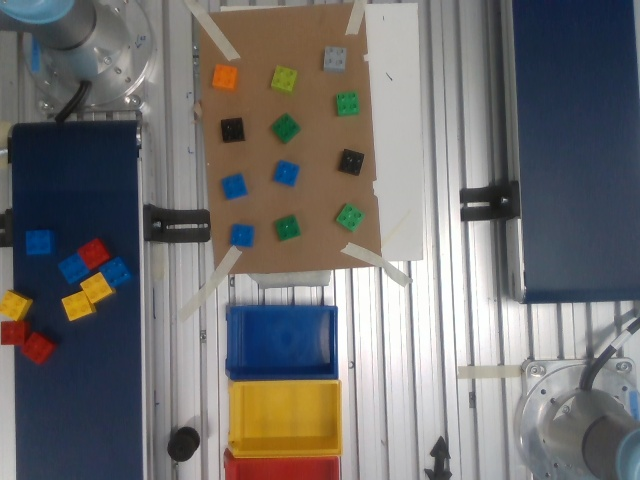duplo_4_blue: (219, 167, 251, 202), (270, 158, 304, 190), (226, 219, 258, 249)
ignore: (334, 197, 371, 234), (268, 111, 304, 145), (269, 63, 300, 96), (218, 114, 247, 149), (331, 88, 362, 120), (335, 148, 370, 176), (210, 63, 239, 95), (275, 209, 301, 243), (320, 45, 350, 74)
